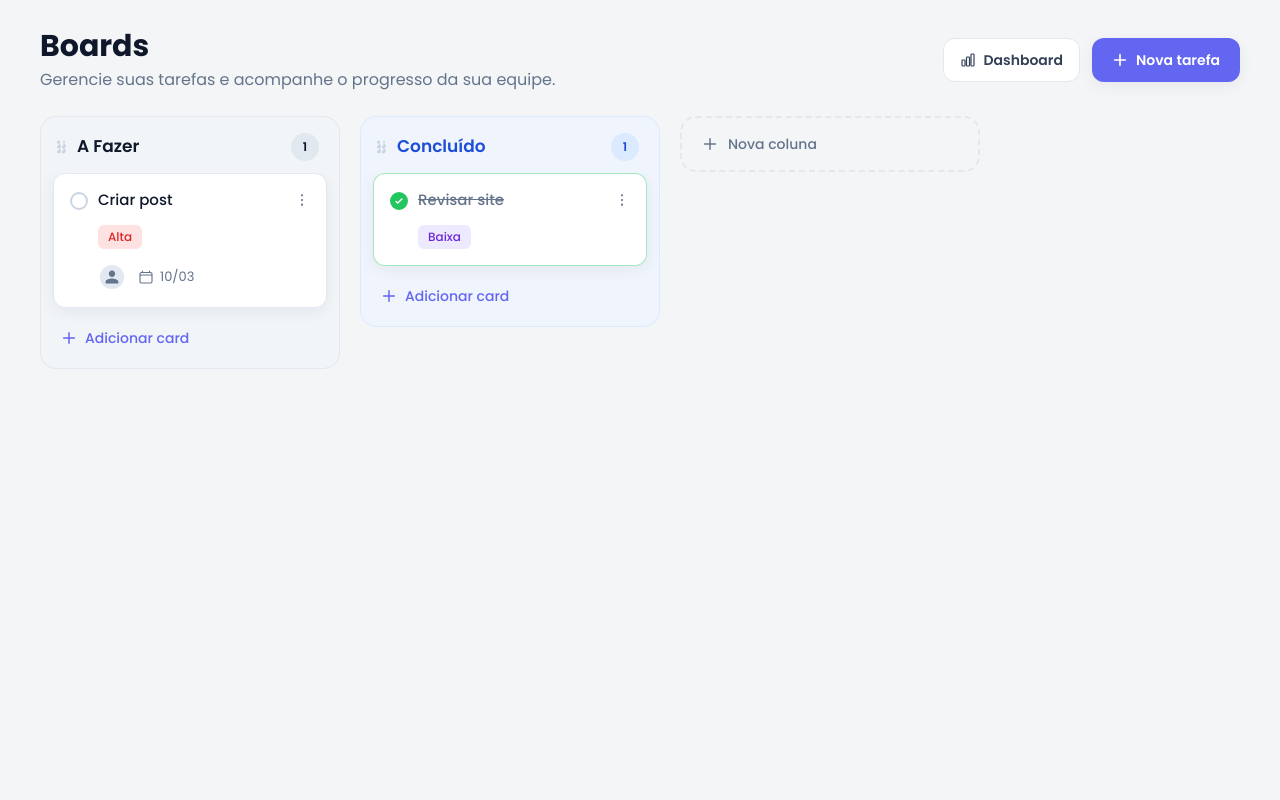
Test: Tarefas › cards › edita o card mantendo os dados que não foram alterados
Expected: the heading "A Fazer" is shown, [77, 134, 139, 158]
Click the button named "Ações do card" next to "Criar post" at x=302, y=200, box [288, 186, 316, 214]
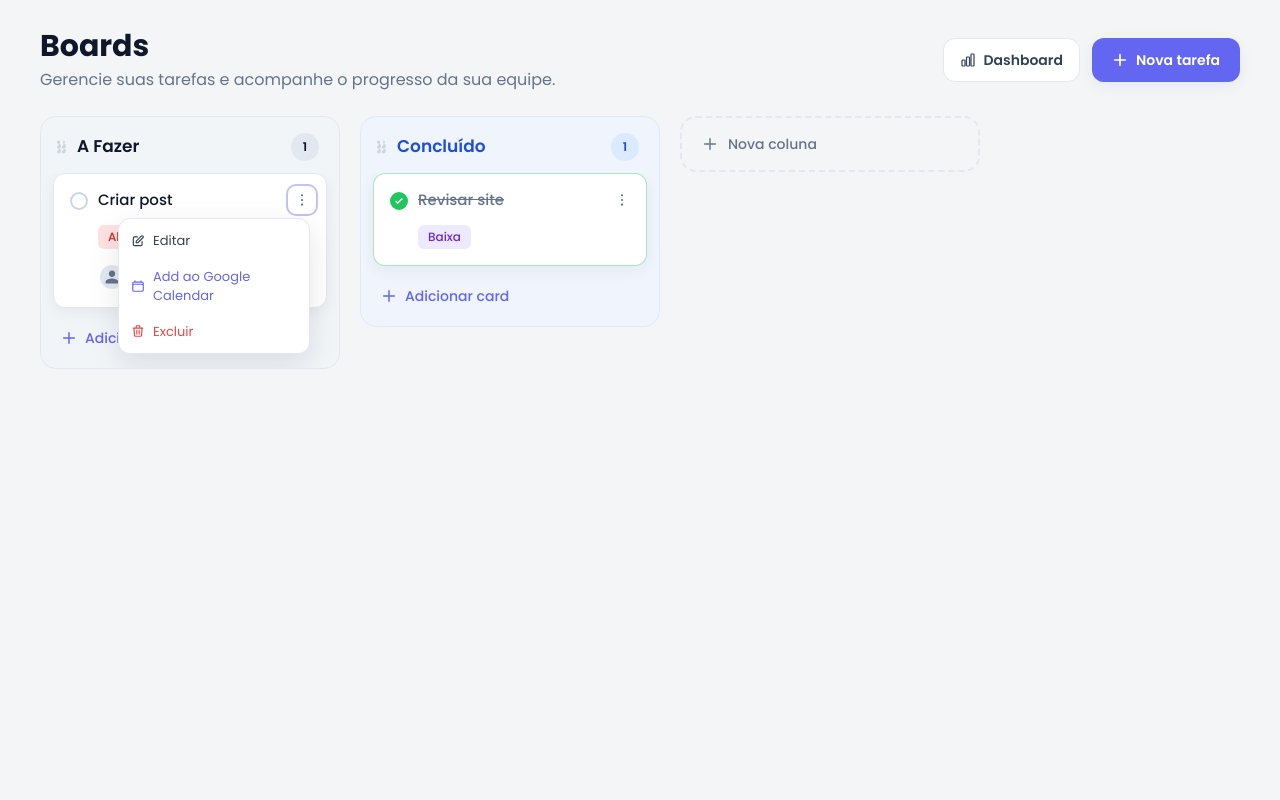
Click the menu item "Editar" at x=214, y=241, box [119, 223, 309, 258]
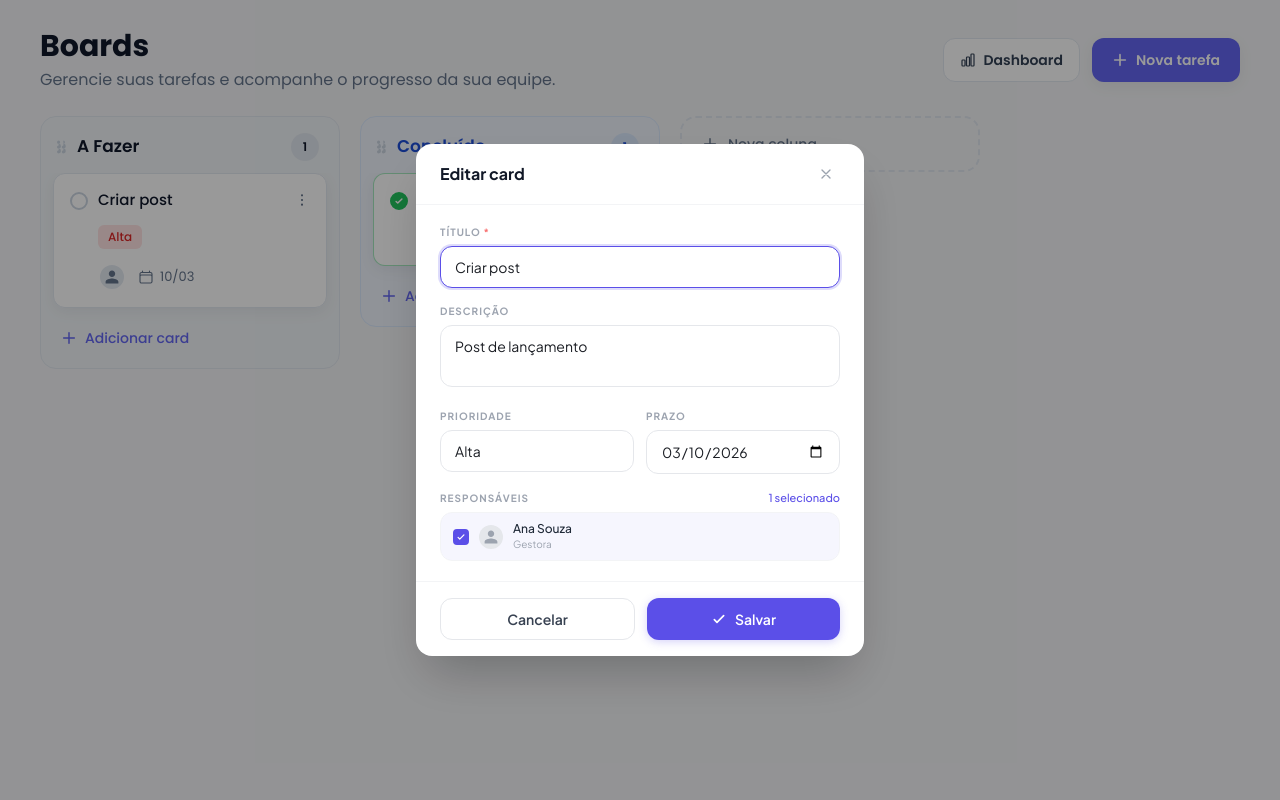
Replace the text in the field showing "Criar post" with "Criar post editado" at x=640, y=267, box [440, 246, 840, 288]
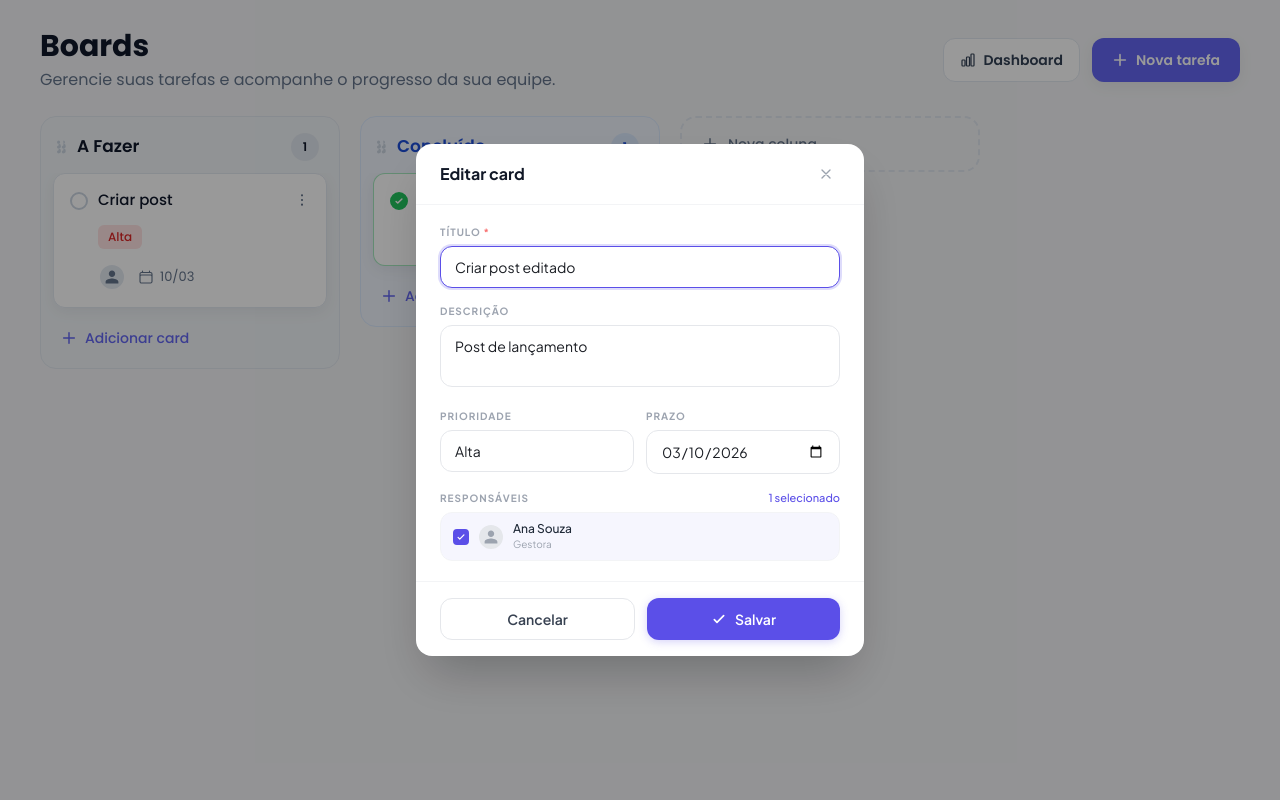
Click the button "Salvar" at x=744, y=619, box [647, 598, 840, 640]
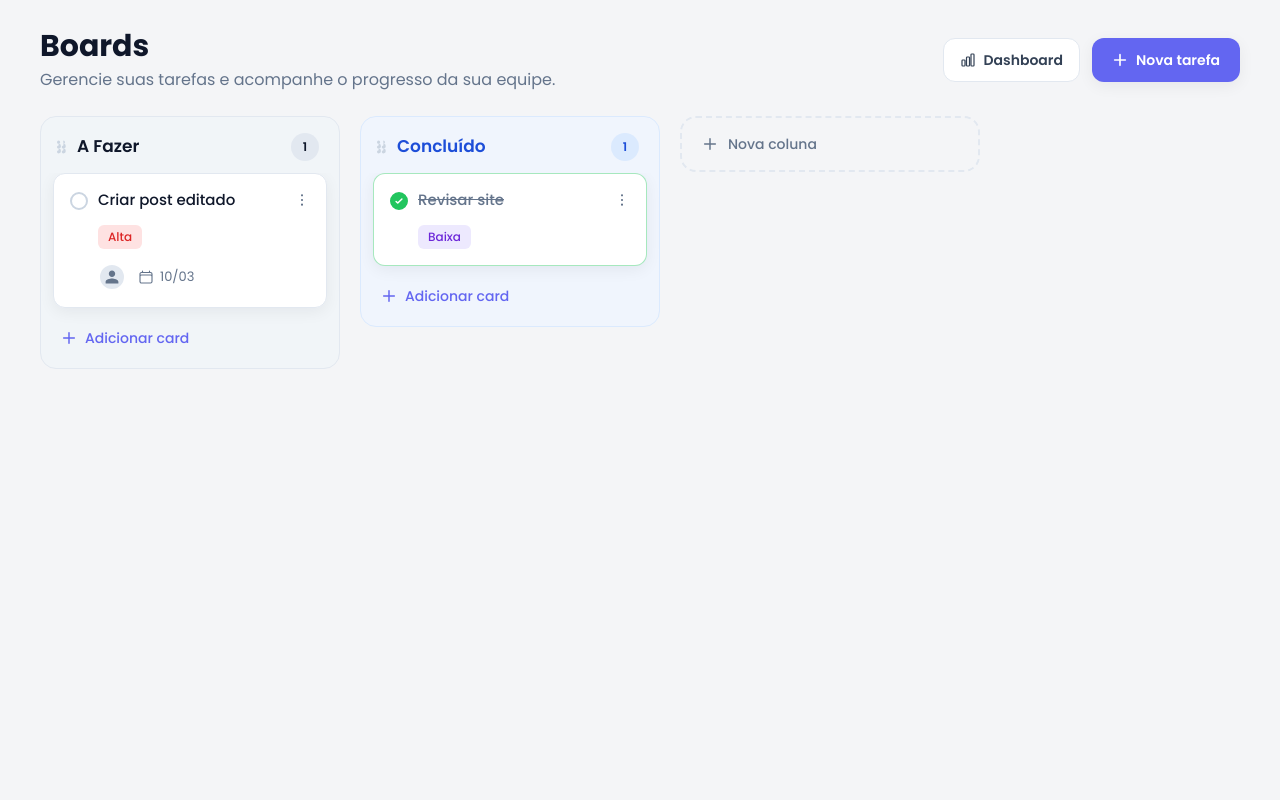
Result: the heading "Criar post editado" is shown at [98, 189, 235, 210]
